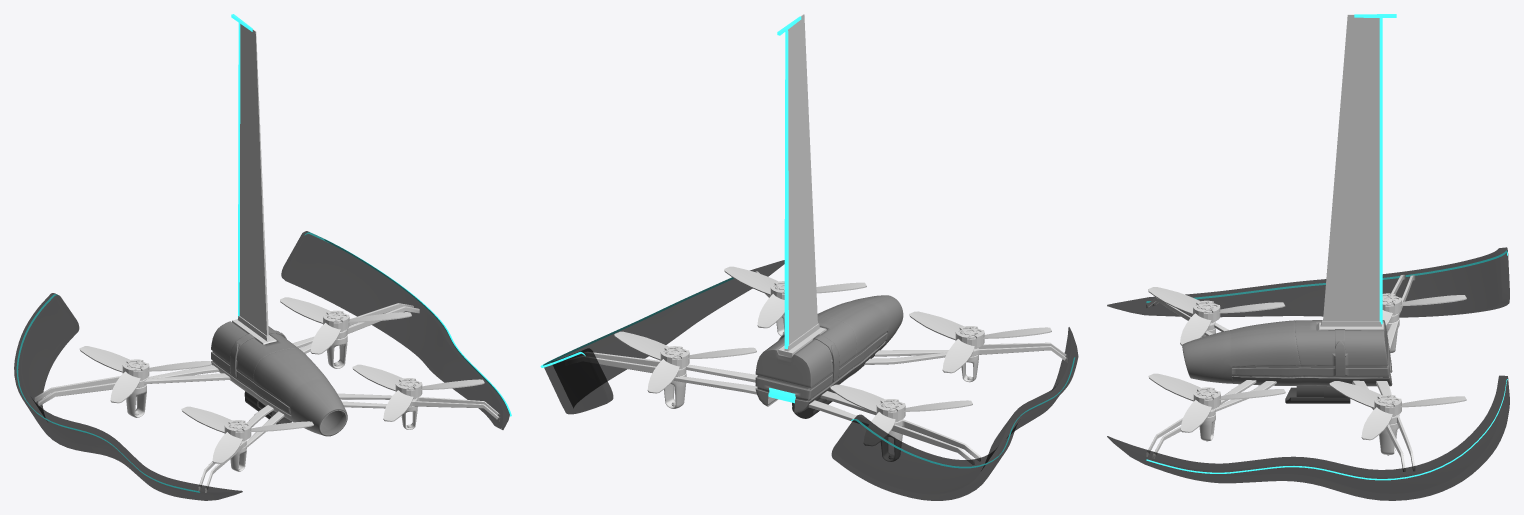
The model's file is drone.fbx.
3 renders of one model, left to right at view 1: azimuth 30°, elevation 25°; view 2: azimuth 150°, elevation 25°; view 3: azimuth 270°, elevation 25°, orthographic. The views are drawn at different scales.
Visible parts, largest first — view 1: Hands, Body, Vertical_Wing, Frame, Group004, Group006, Group001, Group005, Hands_Line, LED1; view 2: Hands, Body, Vertical_Wing, Frame, Group001, Group006, Group005, Group004, LED1, Hands_Line; view 3: Hands, Vertical_Wing, Body, Frame, Group006, Group004, Group001, Hands_Line, LED1, drone_camera, Group005.
Part boxes in pixels (x1,y1,x2,y2): Hands: (14,231,509,500); Body: (211,321,347,436); Vertical_Wing: (232,24,276,344); Frame: (34,303,500,492); Group004: (352,364,484,421); Group006: (280,297,411,354); Group001: (181,406,313,463); Group005: (79,346,211,403); Hands_Line: (16,232,511,492); LED1: (238,23,240,317); Hands: (543,260,1078,500); Body: (755,295,903,413); Vertical_Wing: (778,14,826,357); Frame: (565,271,1067,464); Group001: (909,311,1051,373); Group006: (614,331,756,393); Group005: (830,384,972,445); Group004: (724,266,866,328); LED1: (784,30,788,349); Hands_Line: (540,277,1074,468); Hands: (1107,247,1509,500); Vertical_Wing: (1317,14,1383,330); Body: (1182,320,1392,386); Frame: (1146,274,1415,471); Group006: (1329,381,1466,440); Group004: (1148,373,1285,432); Group001: (1148,287,1285,345); Hands_Line: (1146,250,1507,480); LED1: (1379,18,1382,324); drone_camera: (1285,385,1350,403); Group005: (1382,293,1466,325).
Size of the model in its own units: 372 by 336 by 311.
